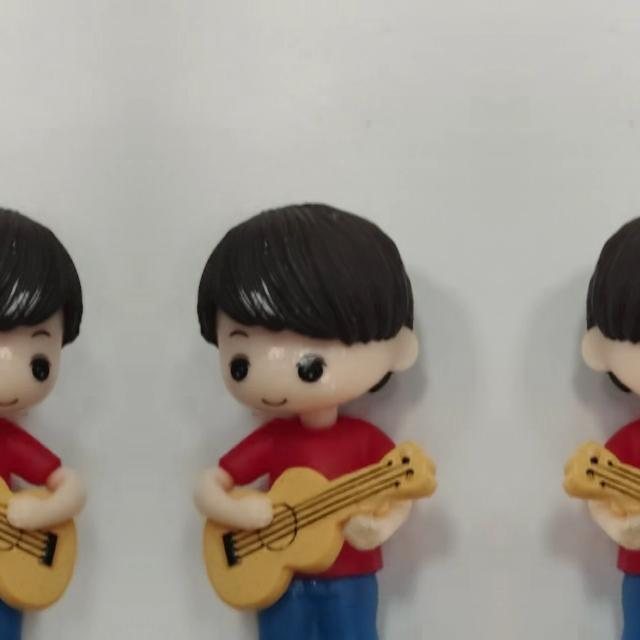man cloth: (212, 415, 428, 581), (572, 415, 640, 581), (0, 415, 67, 581)
man head: (190, 194, 424, 420), (0, 194, 89, 420), (576, 194, 640, 420)
